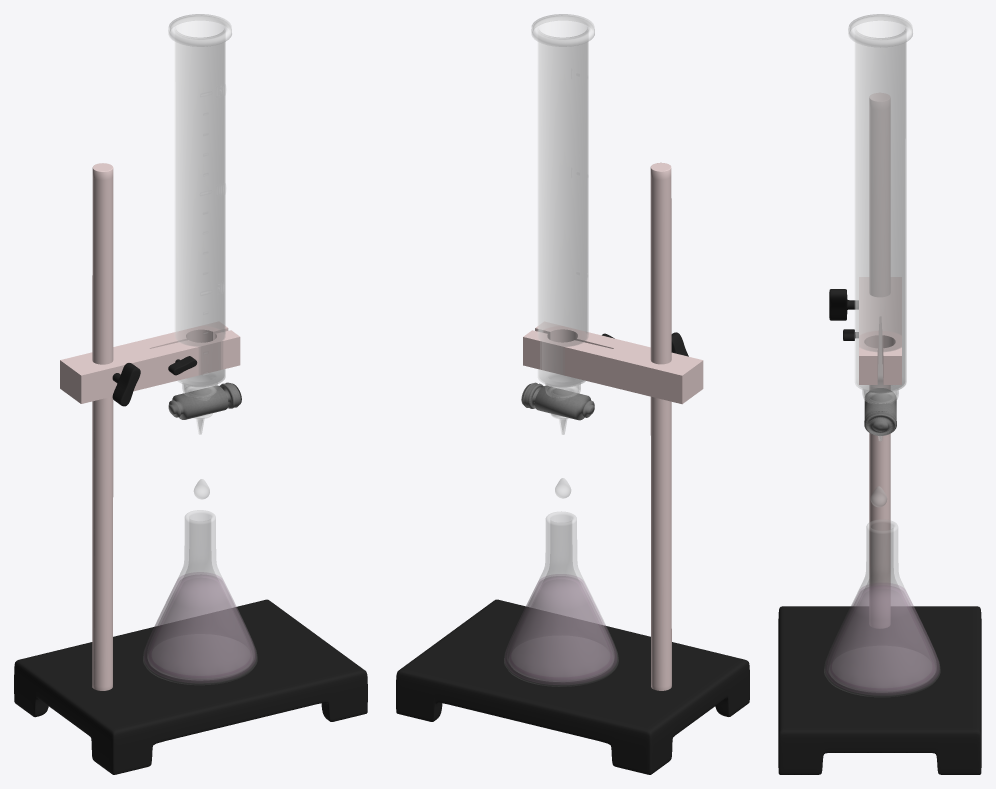
File: titration setup final final.glb
3 renders of one model, left to right at view 1: azimuth 30°, elevation 25°; view 2: azimuth 150°, elevation 25°; view 3: azimuth 270°, elevation 25°, orthographic.
Visible parts, largest first — view 1: polySurface2_Black_0, Circle_0.001, Burette_Flask_Glass, polySurface1_Chrom_0, Liquid_Pink, Liquid_Clear, pCube4_Chrom_0, Cylinder_1, polySurface5_Black_0; view 2: polySurface2_Black_0, Circle_0.001, Burette_Flask_Glass, polySurface1_Chrom_0, Liquid_Pink, pCube4_Chrom_0, Liquid_Clear, Cylinder_1; view 3: polySurface2_Black_0, Circle_0.001, Burette_Flask_Glass, Liquid_Pink, polySurface1_Chrom_0, Liquid_Clear, pCube4_Chrom_0, Cylinder_1, polySurface5_Black_0.
Part boxes in pixels (box(x1,y1,x2,y2)): polySurface2_Black_0: box(14, 599, 367, 774); Circle_0.001: box(168, 14, 231, 434); Burette_Flask_Glass: box(143, 510, 257, 684); polySurface1_Chrom_0: box(92, 163, 113, 690); Liquid_Pink: box(144, 574, 255, 682); Liquid_Clear: box(147, 575, 254, 679); pCube4_Chrom_0: box(60, 321, 240, 403); Cylinder_1: box(168, 382, 241, 419); polySurface5_Black_0: box(112, 363, 140, 406); polySurface2_Black_0: box(396, 599, 749, 774); Circle_0.001: box(531, 14, 594, 434); Burette_Flask_Glass: box(504, 511, 618, 686); polySurface1_Chrom_0: box(650, 162, 671, 690); Liquid_Pink: box(505, 576, 616, 684); pCube4_Chrom_0: box(523, 321, 703, 404); Liquid_Clear: box(507, 577, 614, 681); Cylinder_1: box(521, 382, 594, 420); polySurface2_Black_0: box(778, 606, 981, 774); Circle_0.001: box(848, 14, 912, 440); Burette_Flask_Glass: box(824, 519, 940, 696); Liquid_Pink: box(826, 584, 939, 694); polySurface1_Chrom_0: box(869, 93, 890, 627); Liquid_Clear: box(828, 586, 936, 692); pCube4_Chrom_0: box(859, 277, 901, 384); Cylinder_1: box(864, 388, 896, 435); polySurface5_Black_0: box(829, 289, 858, 320).
Size of the model in its own units: 2.79 by 7.08 by 1.89.
9 materials, 2 textured.
